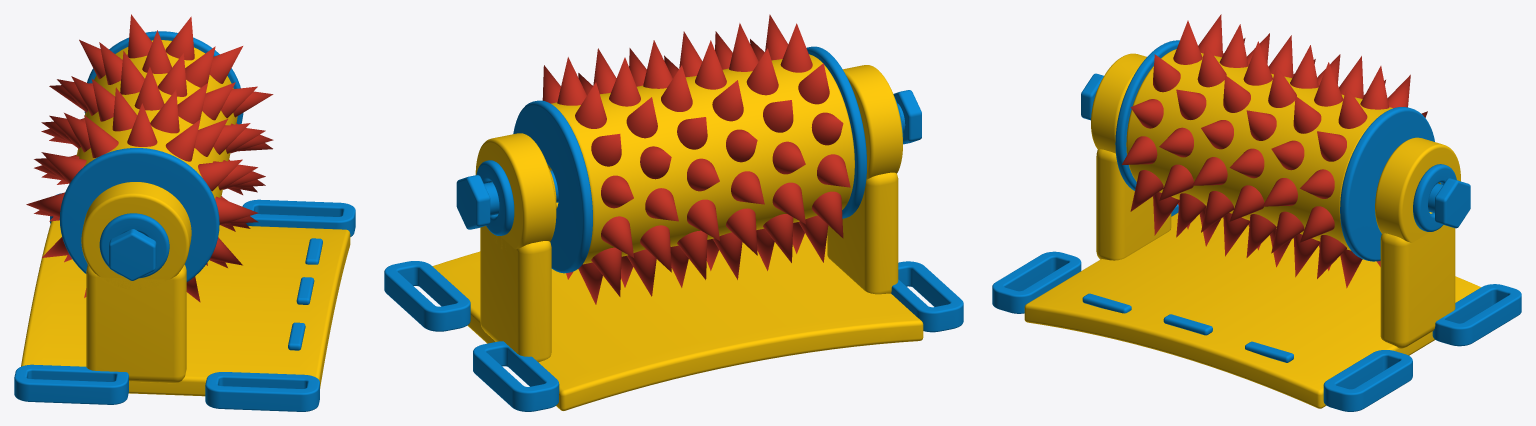
Rendered from palm-mounted-spike-roller.glb.
3 renders of one model, left to right at view 1: azimuth 30°, elevation 25°; view 2: azimuth 150°, elevation 25°; view 3: azimuth 270°, elevation 25°, orthographic. The views are drawn at different scales.
Parts seen in each view (by area): view 1: palm-mounted-spike-roller-part-001, palm-mounted-spike-roller-part-082, palm-mounted-spike-roller-part-007, palm-mounted-spike-roller-part-083, palm-mounted-spike-roller-part-002, palm-mounted-spike-roller-part-003, palm-mounted-spike-roller-part-006, palm-mounted-spike-roller-part-004, palm-mounted-spike-roller-part-086, palm-mounted-spike-roller-part-084, palm-mounted-spike-roller-part-008, palm-mounted-spike-roller-part-024 (+35 smaller); view 2: palm-mounted-spike-roller-part-001, palm-mounted-spike-roller-part-006, palm-mounted-spike-roller-part-087, palm-mounted-spike-roller-part-008, palm-mounted-spike-roller-part-082, palm-mounted-spike-roller-part-088, palm-mounted-spike-roller-part-004, palm-mounted-spike-roller-part-083, palm-mounted-spike-roller-part-005, palm-mounted-spike-roller-part-003, palm-mounted-spike-roller-part-007, palm-mounted-spike-roller-part-091 (+42 smaller); view 3: palm-mounted-spike-roller-part-001, palm-mounted-spike-roller-part-006, palm-mounted-spike-roller-part-087, palm-mounted-spike-roller-part-008, palm-mounted-spike-roller-part-082, palm-mounted-spike-roller-part-088, palm-mounted-spike-roller-part-004, palm-mounted-spike-roller-part-005, palm-mounted-spike-roller-part-002, palm-mounted-spike-roller-part-083, palm-mounted-spike-roller-part-007, palm-mounted-spike-roller-part-091 (+44 smaller).
Part boxes in pixels (<box>): palm-mounted-spike-roller-part-001: <box>21,220,350,396</box>; palm-mounted-spike-roller-part-082: <box>86,264,186,383</box>; palm-mounted-spike-roller-part-007: <box>59,148,219,281</box>; palm-mounted-spike-roller-part-083: <box>81,182,191,289</box>; palm-mounted-spike-roller-part-002: <box>205,372,319,411</box>; palm-mounted-spike-roller-part-003: <box>14,364,128,404</box>; palm-mounted-spike-roller-part-006: <box>76,40,237,199</box>; palm-mounted-spike-roller-part-004: <box>242,199,355,236</box>; palm-mounted-spike-roller-part-086: <box>109,229,156,280</box>; palm-mounted-spike-roller-part-084: <box>99,213,169,278</box>; palm-mounted-spike-roller-part-008: <box>84,31,243,124</box>; palm-mounted-spike-roller-part-024: <box>150,89,179,133</box>; palm-mounted-spike-roller-part-001: <box>432,233,923,410</box>; palm-mounted-spike-roller-part-006: <box>548,54,854,264</box>; palm-mounted-spike-roller-part-087: <box>480,226,551,362</box>; palm-mounted-spike-roller-part-008: <box>513,100,592,273</box>; palm-mounted-spike-roller-part-082: <box>827,172,898,294</box>; palm-mounted-spike-roller-part-088: <box>475,133,556,250</box>; palm-mounted-spike-roller-part-004: <box>384,261,470,331</box>; palm-mounted-spike-roller-part-083: <box>843,65,902,179</box>; palm-mounted-spike-roller-part-005: <box>473,341,559,411</box>; palm-mounted-spike-roller-part-003: <box>891,261,963,332</box>; palm-mounted-spike-roller-part-007: <box>806,46,866,218</box>; palm-mounted-spike-roller-part-091: <box>456,175,490,229</box>; palm-mounted-spike-roller-part-001: <box>1024,213,1480,408</box>; palm-mounted-spike-roller-part-006: <box>1126,49,1392,250</box>; palm-mounted-spike-roller-part-087: <box>1380,225,1455,348</box>; palm-mounted-spike-roller-part-008: <box>1340,107,1434,261</box>; palm-mounted-spike-roller-part-082: <box>1096,149,1171,260</box>; palm-mounted-spike-roller-part-088: <box>1375,137,1460,242</box>; palm-mounted-spike-roller-part-004: <box>1323,350,1412,411</box>; palm-mounted-spike-roller-part-005: <box>1432,284,1521,346</box>; palm-mounted-spike-roller-part-002: <box>992,251,1081,313</box>; palm-mounted-spike-roller-part-083: <box>1091,53,1146,153</box>; palm-mounted-spike-roller-part-007: <box>1115,40,1179,190</box>; palm-mounted-spike-roller-part-091: <box>1435,178,1470,228</box>.
Bounding box in the file's own units: 2.79 × 1.61 × 3.
